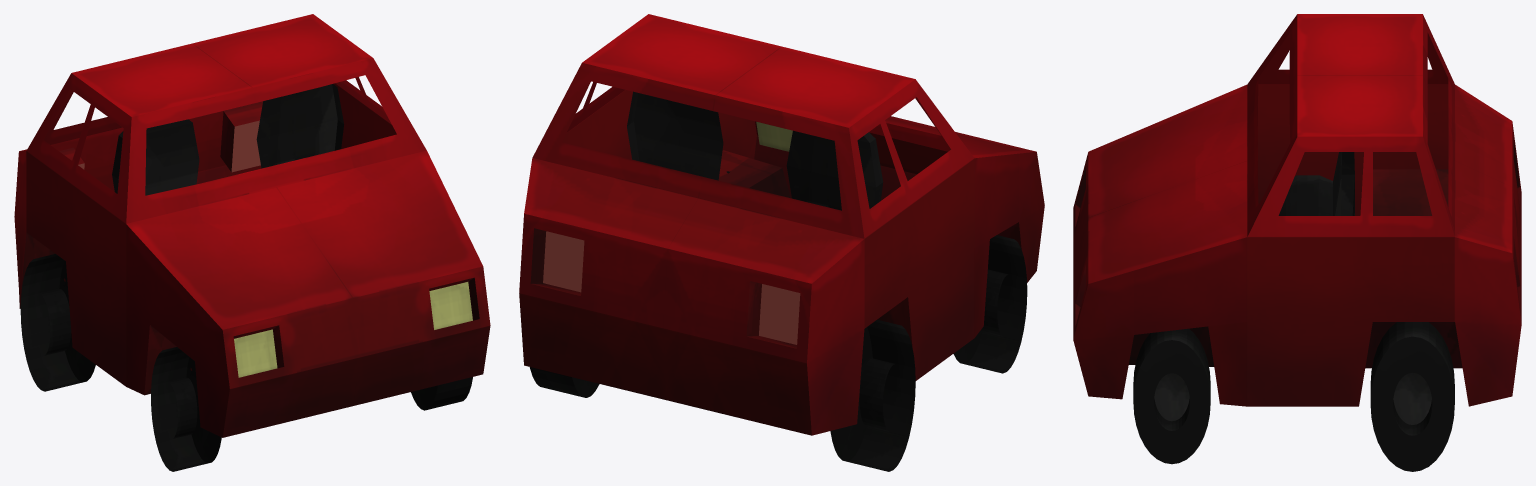
Rendered from car.glb.
3 views of the same model, side by side, from view 1: azimuth 30°, elevation 25°; view 2: azimuth 150°, elevation 25°; view 3: azimuth 270°, elevation 25° (orthographic). The views are drawn at different scales.
Visible parts, largest first — view 1: Cube.001; view 2: Cube.001; view 3: Cube.001.
Part boxes in pixels (bbox=[...]): Cube.001: bbox=[14, 14, 490, 471]; Cube.001: bbox=[519, 14, 1044, 471]; Cube.001: bbox=[1073, 14, 1521, 471].
Bounding box in the file's own units: 1.11 × 1.04 × 1.33.
1 material, 1 textured.
